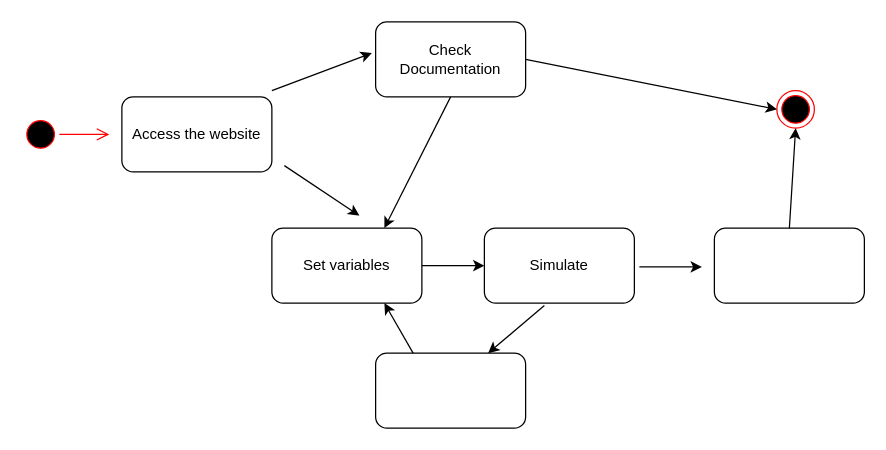
This 886x450 diagram has some shape labels left out. Each missing label, with the centre of its shape:
"Print results" belongs at point (788, 265).
"Restart" belongs at point (450, 390).
